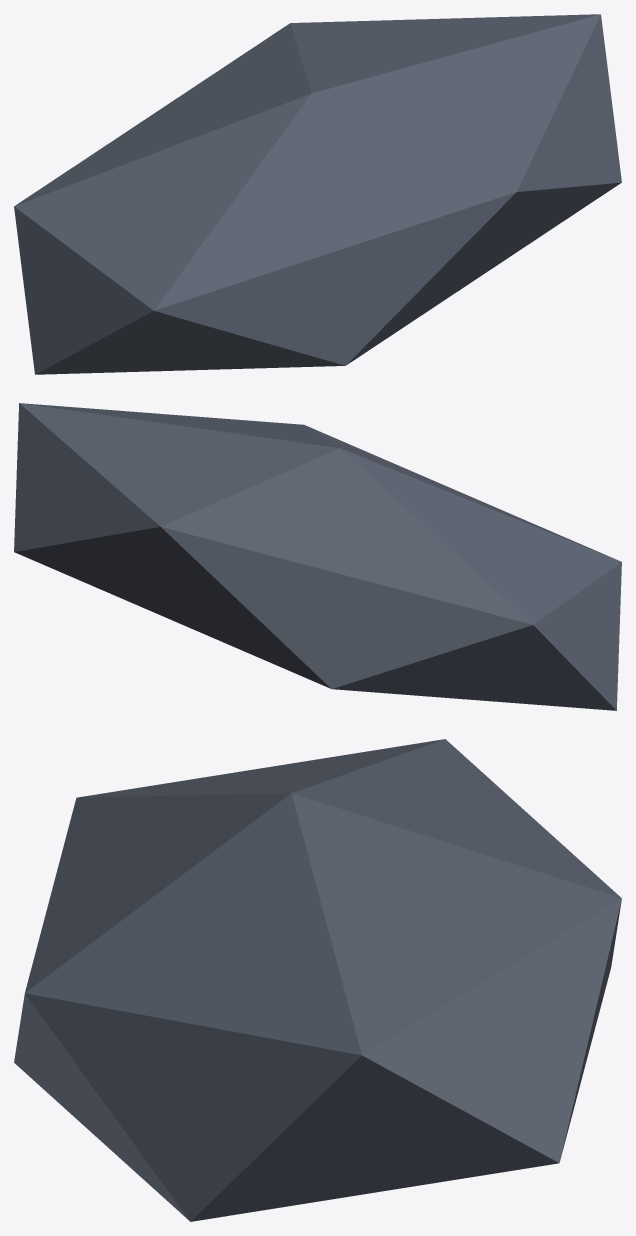
The model's file is EXTC_Rubble_02.glb.
The picture shows the model from 3 angles, top to bottom: view 1: azimuth 30°, elevation 25°; view 2: azimuth 150°, elevation 25°; view 3: azimuth 270°, elevation 25°; orthographic projection. The views are drawn at different scales.
Parts seen in each view (by area): view 1: EXTC_Rubble_02; view 2: EXTC_Rubble_02; view 3: EXTC_Rubble_02.
Boxes of the visible parts, x1,y1,x2,y2 form: EXTC_Rubble_02: [14, 14, 621, 374]; EXTC_Rubble_02: [14, 403, 621, 710]; EXTC_Rubble_02: [14, 739, 621, 1221].
Size of the model in its own units: 1.1 by 0.3927 by 0.6149.
